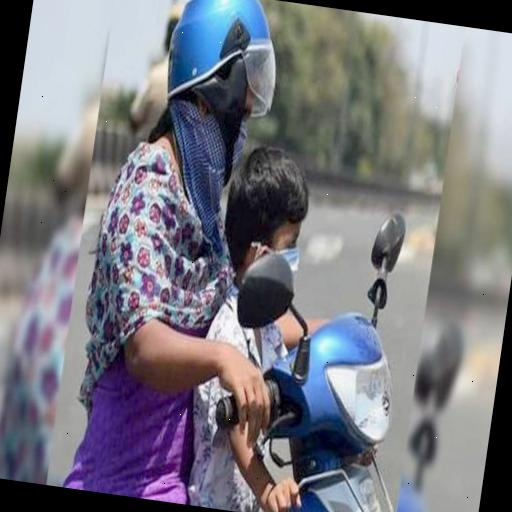helmet: (88, 0, 283, 495)
